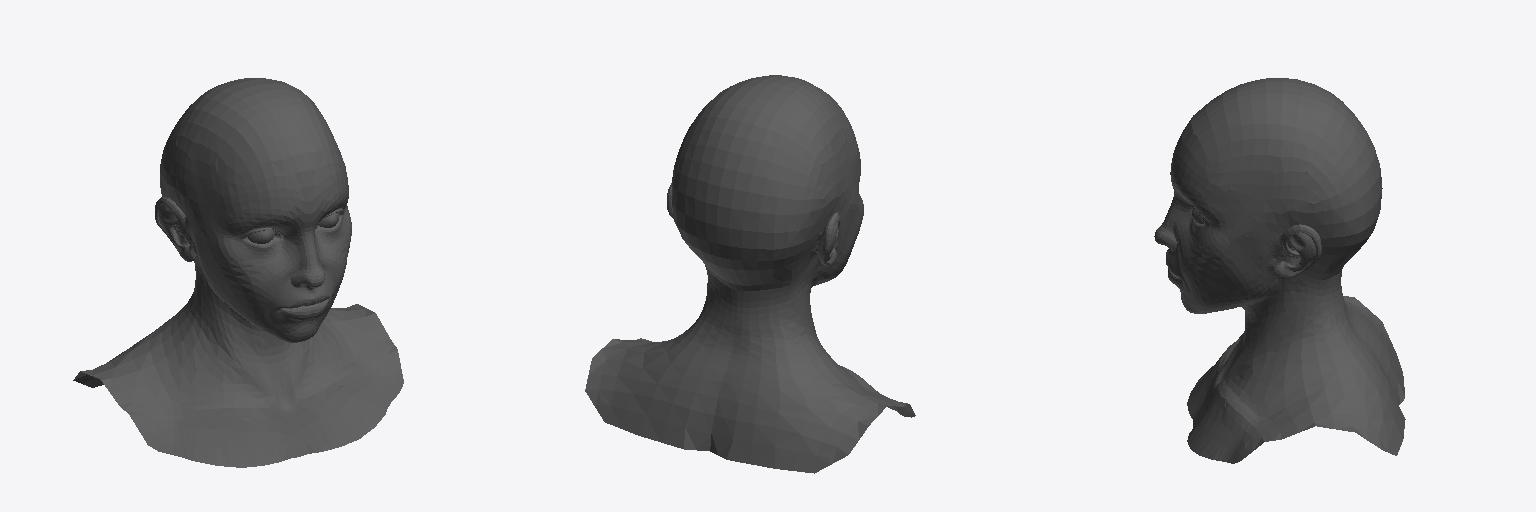
Rendered from volto_donna_smooth.obj.
3 renders of one model, left to right at view 1: azimuth 30°, elevation 25°; view 2: azimuth 150°, elevation 25°; view 3: azimuth 270°, elevation 25°, orthographic.
Parts seen in each view (by area): view 1: polySurface4; view 2: polySurface4; view 3: polySurface4.
Boxes of the visible parts, box(x1,y1,x2,y2) form: polySurface4: box(73, 78, 403, 467); polySurface4: box(585, 75, 915, 473); polySurface4: box(1154, 78, 1405, 463).
Size of the model in its own units: 17.47 by 20.37 by 13.71.